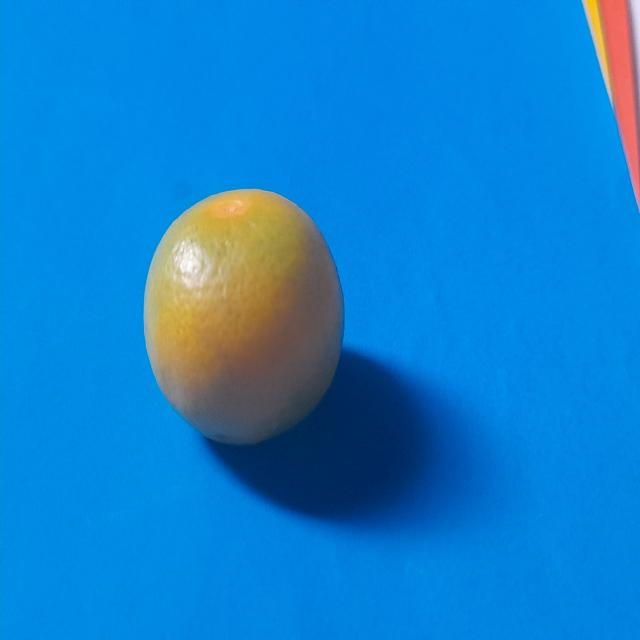greening: (138, 185, 347, 449)
